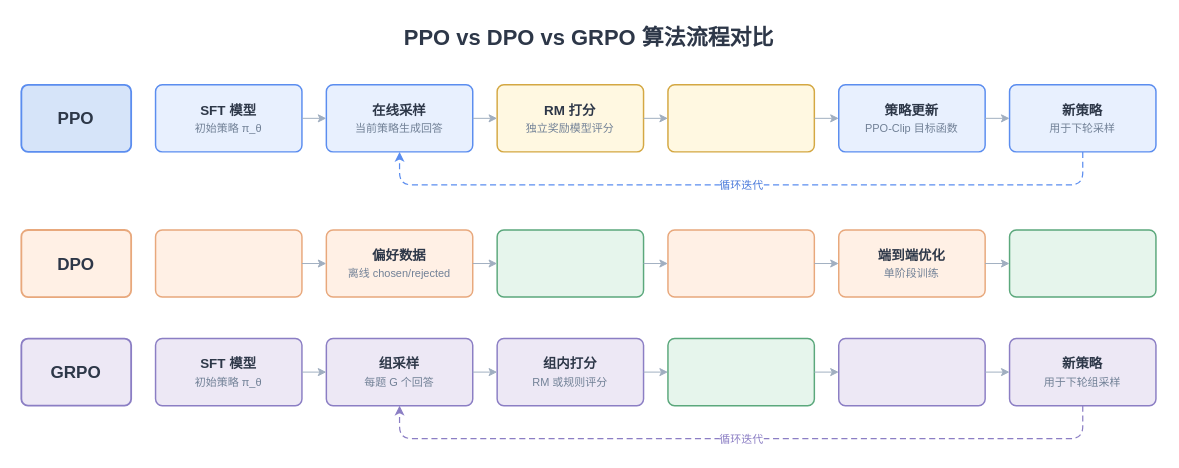
Some shapes in this 1179 by 468 pixel diagram are drawn without their labels. Here are the shapes that lost their labels. From the top down, the centre of each, then its label:
At [740,117]: "优势估计 GAE + Value Model".
At [228,263]: "SFT + Ref 策略 + 冻结参考模型".
At [570,263]: "隐式奖励 无需独立 RM".
At [740,263]: "DPO Loss BT 偏好建模".
At [1082,263]: "训练完成 无需在线迭代".
At [740,371]: "组内优势 归一化，无需 VM".
At [911,371]: "策略更新 类 PPO-Clip".
